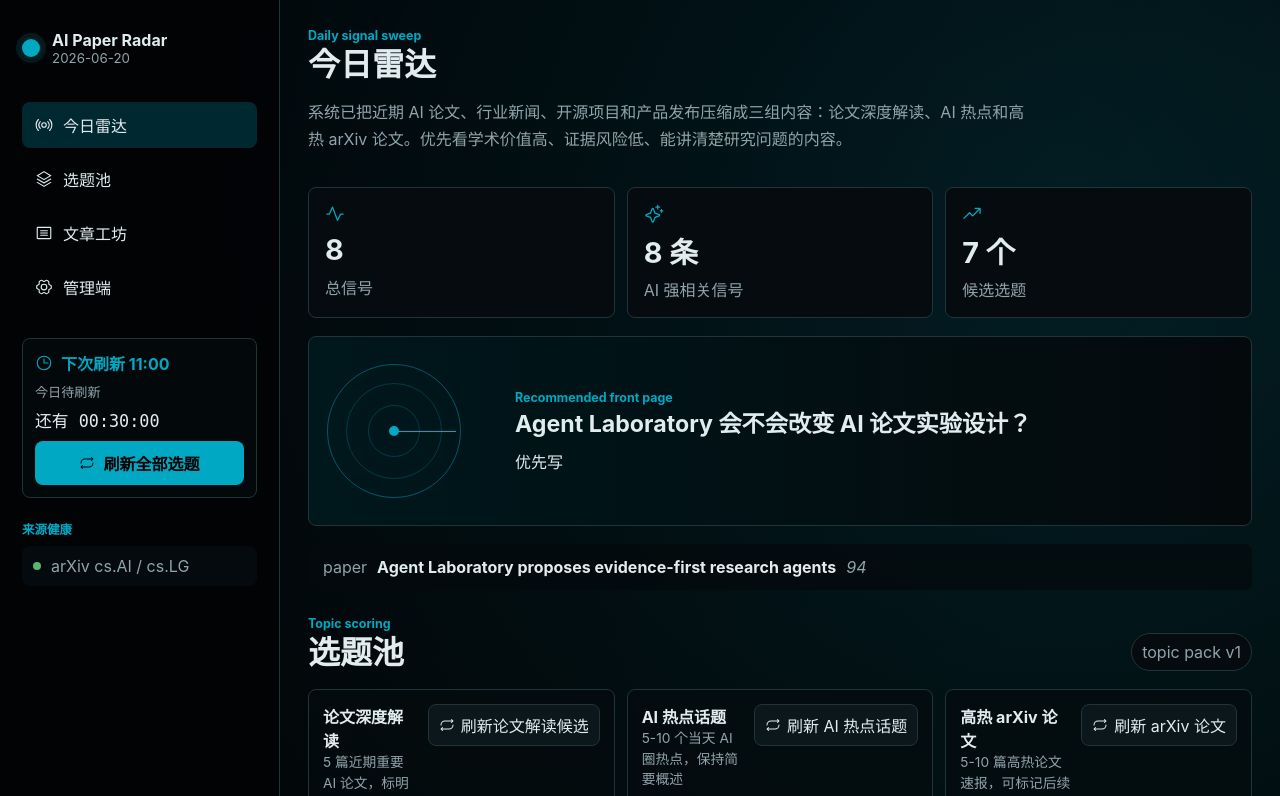
Scenario: shows topic pack modules and refreshes only the selected topic module
The width and height of the screenshot is (1280, 796).
Check: the heading "论文深度解读" is shown, box left=323, top=707, right=403, bottom=751
Check: the heading "AI 热点话题" is shown, box left=642, top=707, right=726, bottom=727
Click the button "刷新 AI 热点话题": [836, 725] box left=754, top=704, right=918, bottom=746
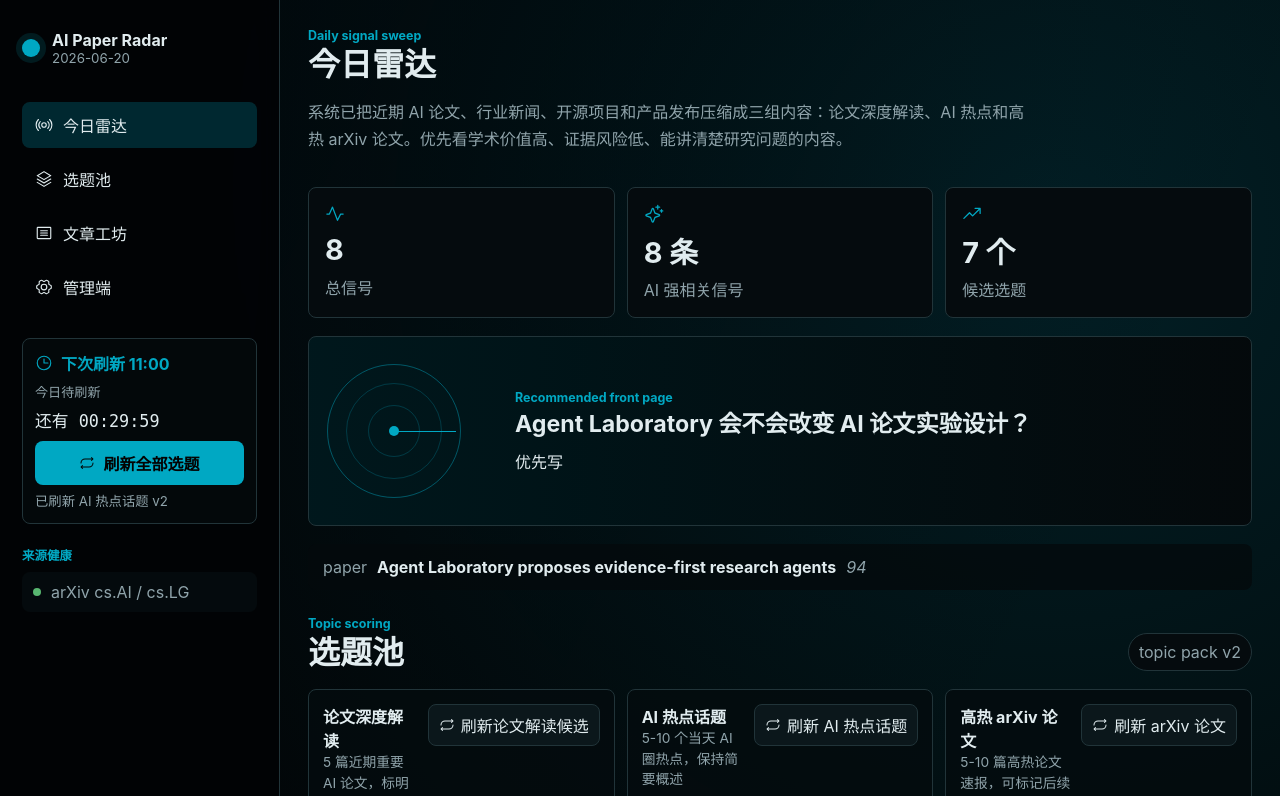
Check: the heading "Agent Laboratory 会不会改变 AI 论文实验设计？" is shown, box left=515, top=410, right=1032, bottom=438
Check: the text "已刷新 AI 热点话题 v2" is shown, box left=35, top=493, right=168, bottom=509
